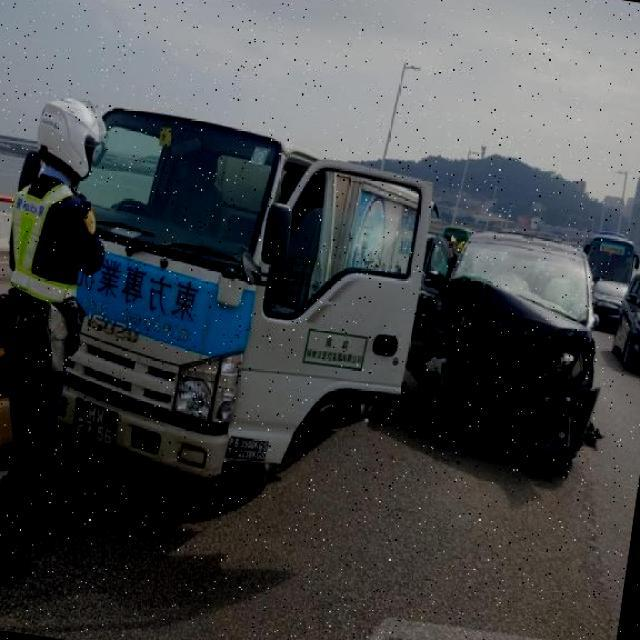accident: (345, 188, 640, 505)
